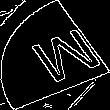M_SE: (12, 22, 98, 88)
